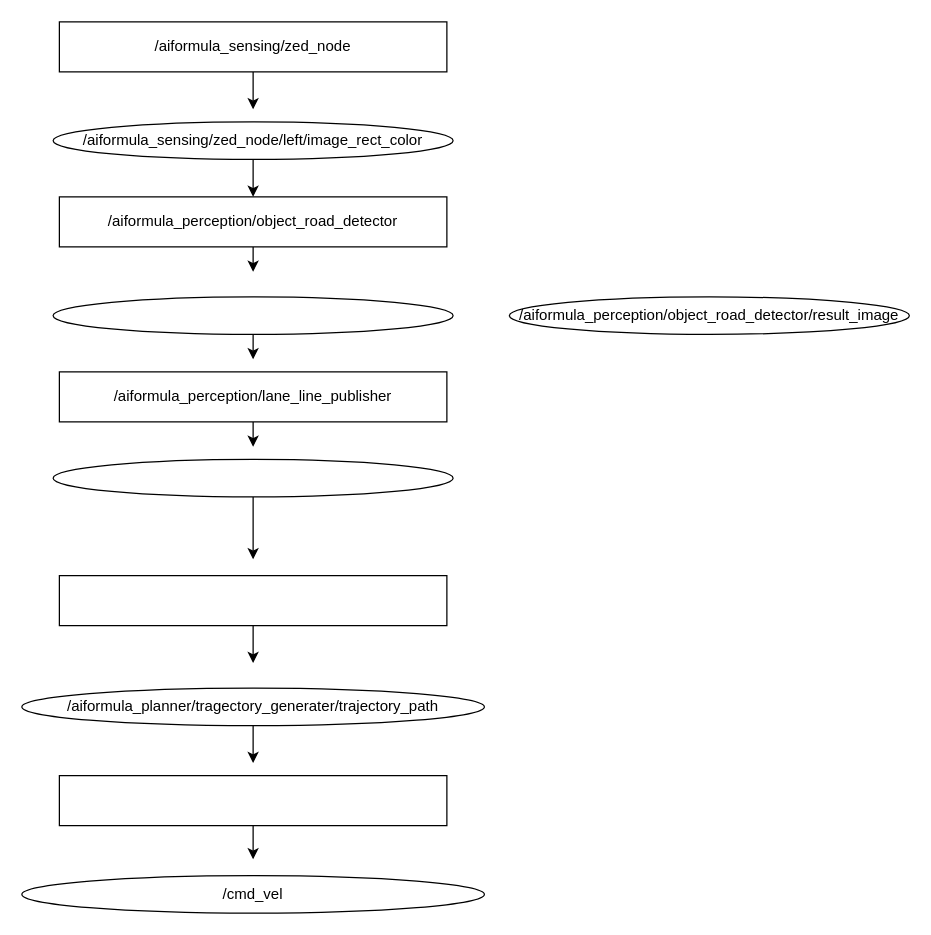
Image size: 931x935. Some labels were removed from this diagram. The centre of each missing label's shape, as x and y in pixels:
"/aiformula_controller/pure_pursuit" belongs at point 252,800.
"/aiformula_perception/lane_line_publisher/bev_points" belongs at point 252,477.
"/aiformula_perception/object_road_detector/mask_image" belongs at point 252,315.
"/aiformula_planner/trajectory_generator" belongs at point 252,600.
